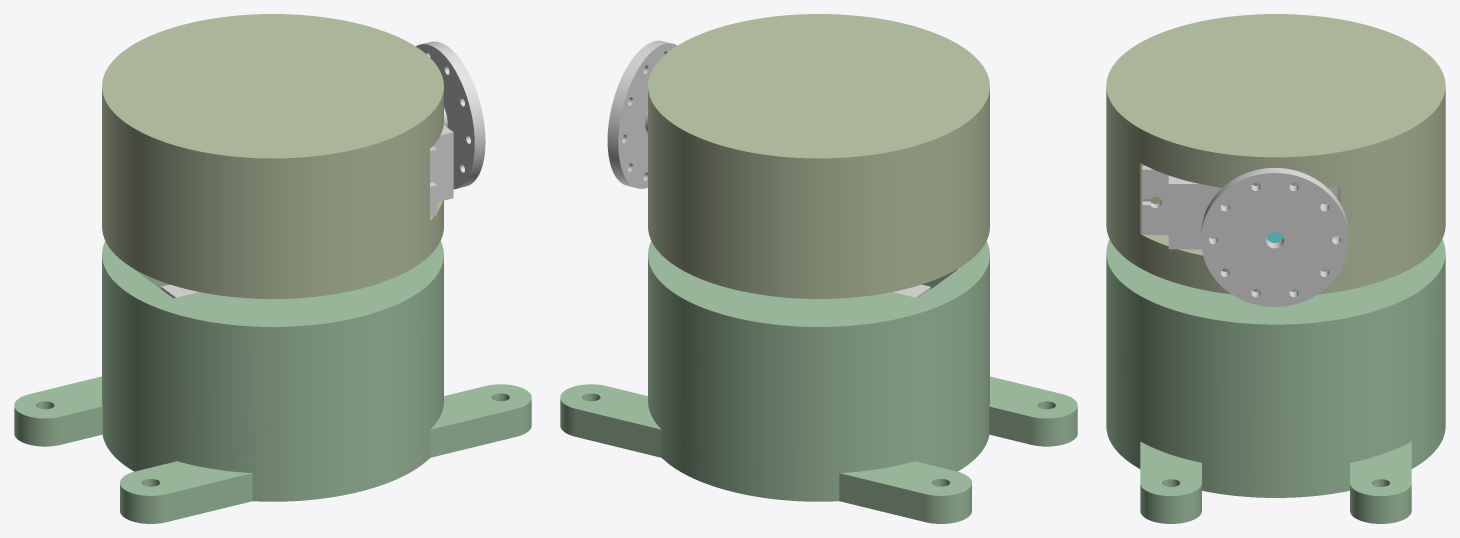
3 renders of one model, left to right at view 1: azimuth 30°, elevation 25°; view 2: azimuth 150°, elevation 25°; view 3: azimuth 270°, elevation 25°, orthographic.
Parts seen in each view (by area): view 1: out.yaw, out.base, out.pitch_servo.horn, out.pitch_servo.servobody; view 2: out.yaw, out.base, out.pitch_servo.horn; view 3: out.base, out.yaw, out.pitch_servo.horn, out.pitch_servo.servobody.
Boxes of the visible parts, left/top/right/bottom form: out.yaw: left=102, top=14, right=443, bottom=298; out.base: left=14, top=241, right=531, bottom=523; out.pitch_servo.horn: left=416, top=41, right=485, bottom=189; out.pitch_servo.servobody: left=430, top=125, right=453, bottom=216; out.yaw: left=648, top=14, right=989, bottom=298; out.base: left=560, top=241, right=1077, bottom=523; out.pitch_servo.horn: left=607, top=40, right=677, bottom=188; out.base: left=1106, top=239, right=1445, bottom=523; out.yaw: left=1106, top=14, right=1445, bottom=294; out.pitch_servo.horn: left=1201, top=168, right=1348, bottom=306; out.pitch_servo.servobody: left=1142, top=165, right=1337, bottom=249.
Bounding box in the file's own units: 0.0751 × 0.0611 × 0.0551.
